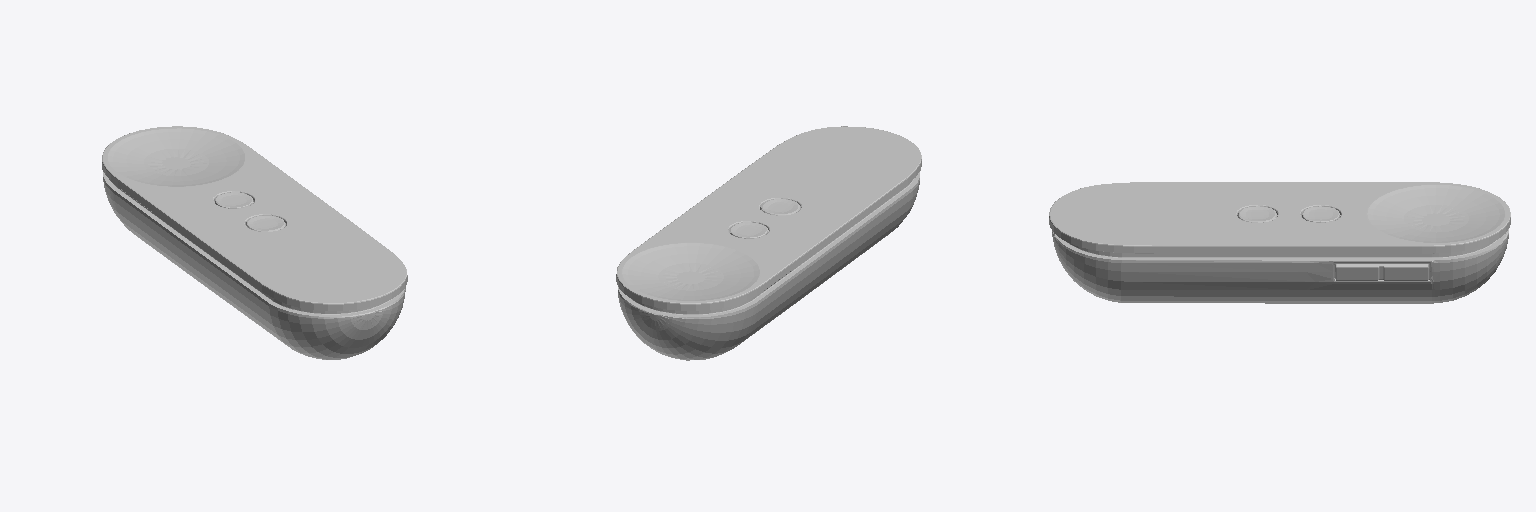
File: vr_controller_daydream.OBJ
3 renders of one model, left to right at view 1: azimuth 30°, elevation 25°; view 2: azimuth 150°, elevation 25°; view 3: azimuth 270°, elevation 25°, orthographic.
Parts seen in each view (by area): view 1: vr_controller_daydream; view 2: vr_controller_daydream; view 3: vr_controller_daydream.
Boxes of the visible parts, x1,y1,x2,y2 form: vr_controller_daydream: [102, 126, 407, 359]; vr_controller_daydream: [616, 126, 921, 360]; vr_controller_daydream: [1049, 182, 1510, 303].
Size of the model in its own units: 0.0593 by 0.0349 by 0.1761.